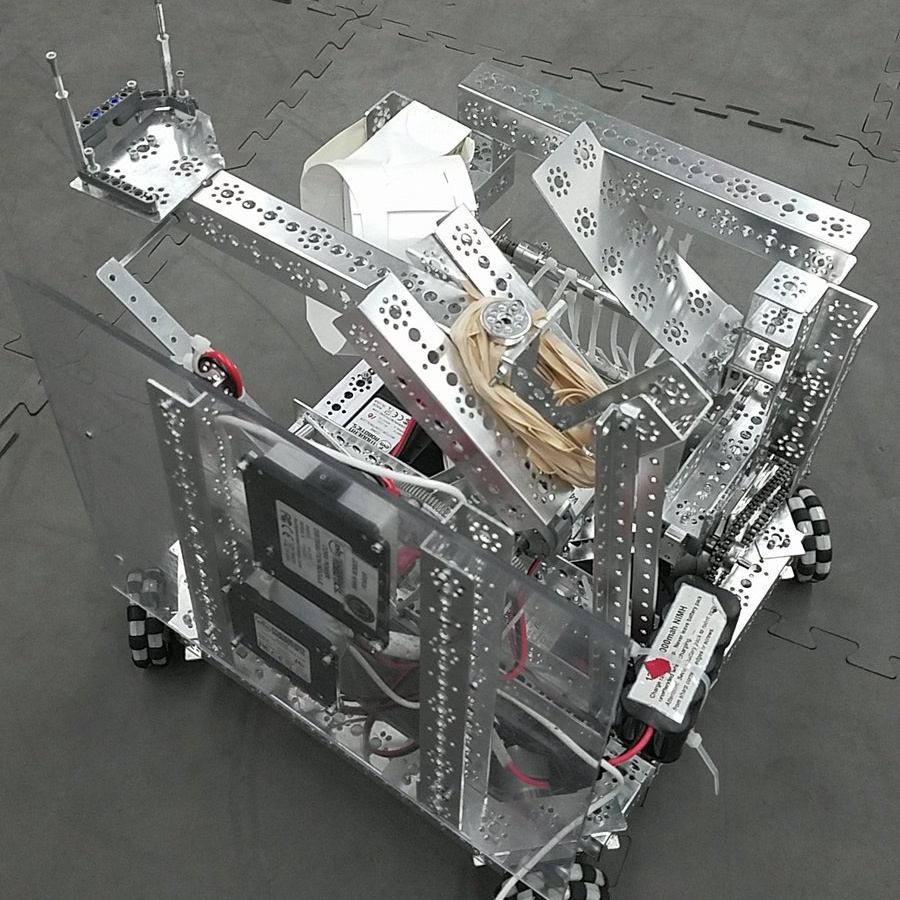robot: (34, 1, 886, 900)
